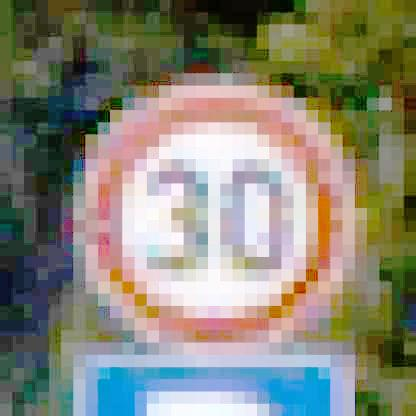Speed Limit -30-: (77, 81, 359, 354)
